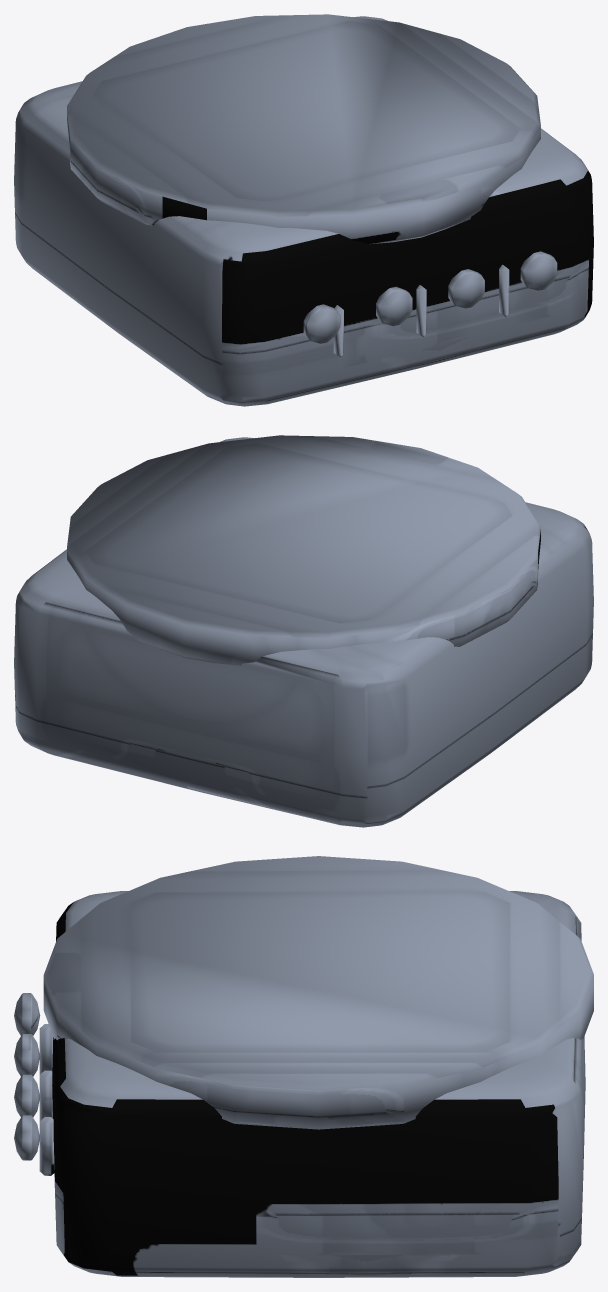
Rendered from Remache_PunoDer.fbx.
3 renders of one model, top to bottom at view 1: azimuth 30°, elevation 25°; view 2: azimuth 150°, elevation 25°; view 3: azimuth 270°, elevation 25°, orthographic. The views are drawn at different scales.
Parts seen in each view (by area): view 1: Remache_PunoDer; view 2: Remache_PunoDer; view 3: Remache_PunoDer.
Boxes of the visible parts, x1=… form: Remache_PunoDer: x1=14, y1=14, x2=593, y2=406; Remache_PunoDer: x1=14, y1=435, x2=593, y2=827; Remache_PunoDer: x1=14, y1=856, x2=593, y2=1277.
Size of the model in its own units: 2.36 by 1.01 by 2.49.
